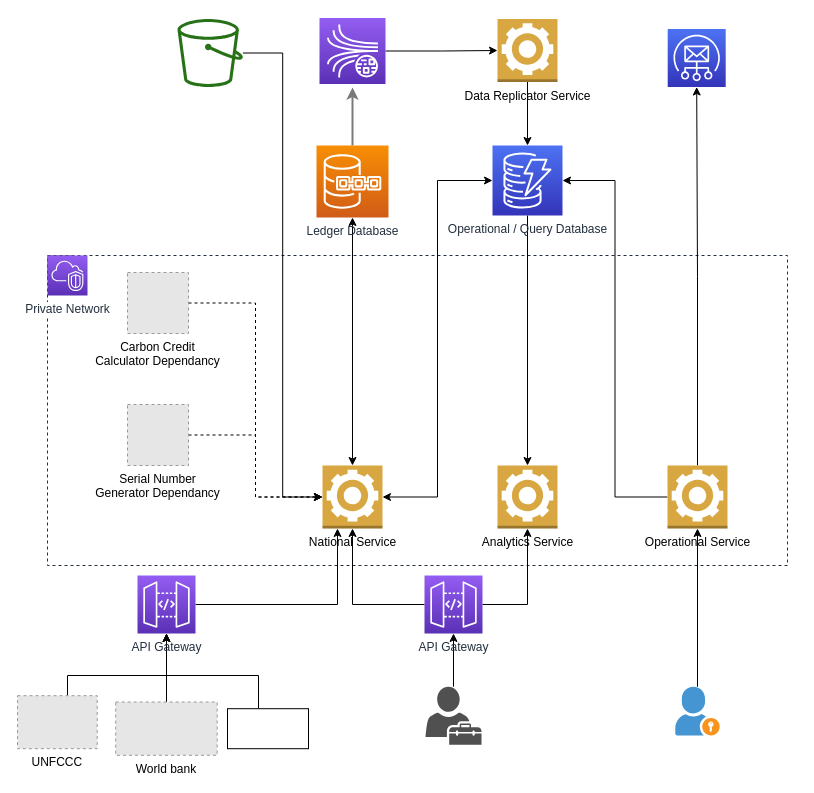
This 814x793 diagram has some shape labels left out. Grey dashed boxes stand in for pictures. The shapes that lost their labels are listed below. From the top down, each one's centre as x and y in pixels, then its label:
the point at 209,52: Storage
the point at 352,50: Data Stream
the point at 696,57: Email Service
the point at 267,728: MRV
the point at 453,715: Government / Project Developer / Certifier
the point at 697,710: Operational User (Root / Super Root)
